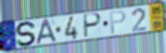2: (130, 7, 148, 33)
4: (64, 15, 80, 41)
A: (35, 18, 58, 46)
P: (83, 13, 103, 40), (109, 10, 127, 36)
S: (14, 20, 38, 47)
